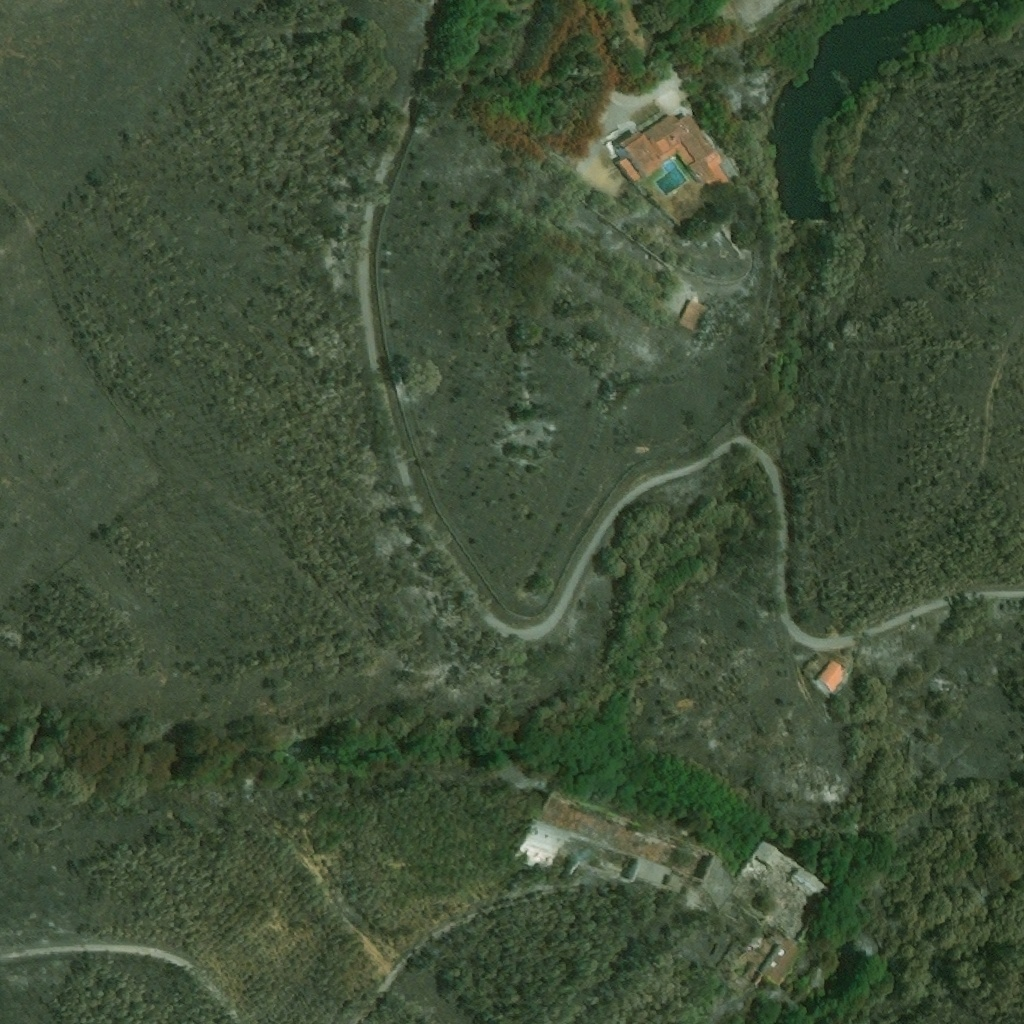0 no-damage: (612, 110, 745, 201), (509, 819, 567, 873), (758, 935, 806, 990), (738, 840, 781, 887), (791, 868, 833, 904), (620, 857, 667, 887), (815, 660, 849, 694), (680, 298, 711, 324)
